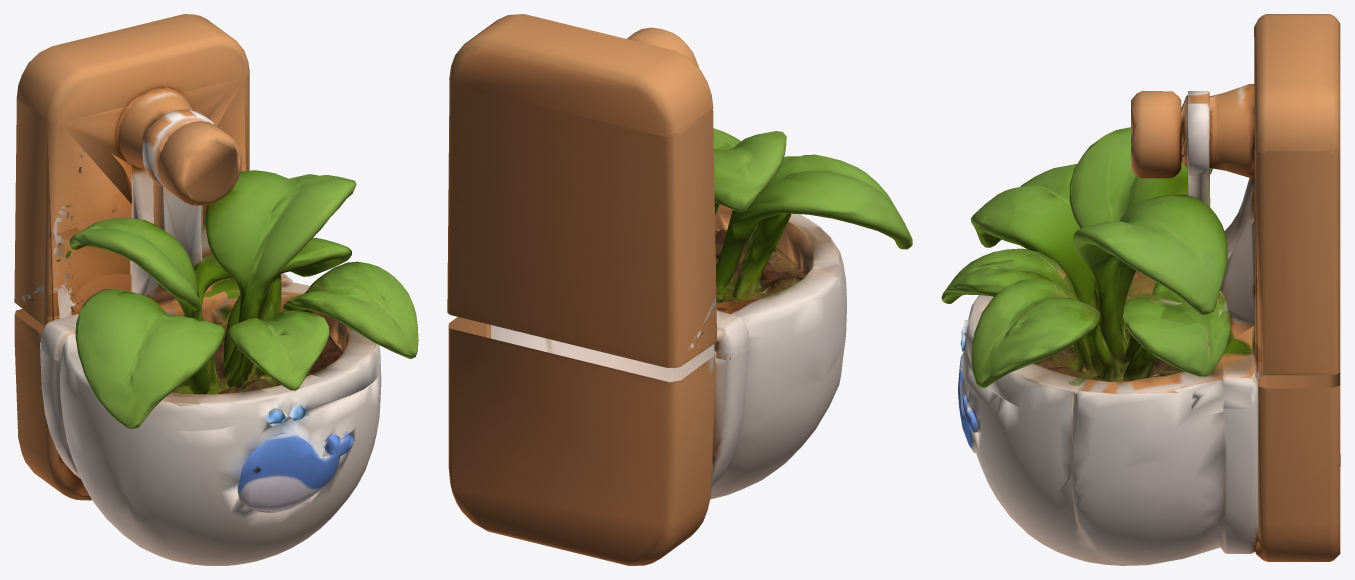
The model's file is wall-plant.glb.
3 renders of one model, left to right at view 1: azimuth 30°, elevation 25°; view 2: azimuth 150°, elevation 25°; view 3: azimuth 270°, elevation 25°, orthographic. The views are drawn at different scales.
Parts seen in each view (by area): view 1: wall_plant_mesh; view 2: wall_plant_mesh; view 3: wall_plant_mesh.
Part boxes in pixels (left/top/right/bottom): wall_plant_mesh: left=14, top=14, right=418, bottom=565; wall_plant_mesh: left=447, top=14, right=912, bottom=565; wall_plant_mesh: left=941, top=14, right=1340, bottom=565.
Bounding box in the file's own units: 0.3124 × 0.4206 × 0.3101.
Materials: 1 (1 with a texture image).
